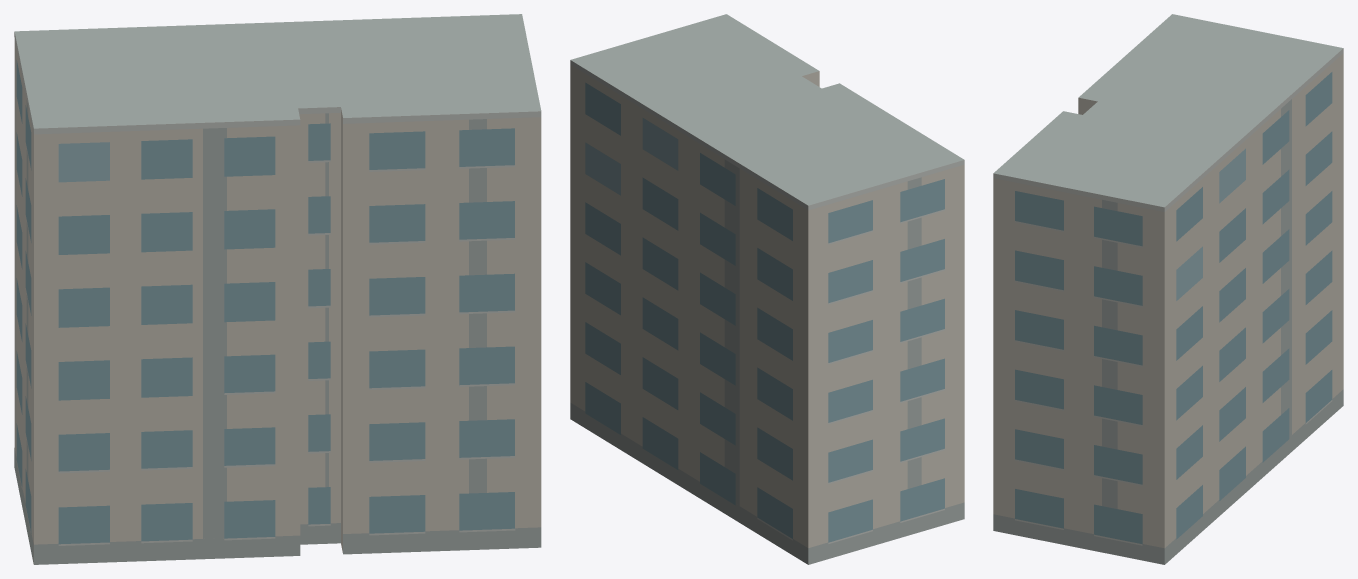
Rendered from survey-upis-32552442.glb.
The picture shows the model from 3 angles, left to right: view 1: azimuth 30°, elevation 25°; view 2: azimuth 150°, elevation 25°; view 3: azimuth 270°, elevation 25°; orthographic projection. The views are drawn at different scales.
Parts seen in each view (by area): view 1: survey-upis-32552442.tmp; view 2: survey-upis-32552442.tmp; view 3: survey-upis-32552442.tmp.
Boxes of the visible parts, x1=… form: survey-upis-32552442.tmp: x1=14, y1=14, x2=541, y2=564; survey-upis-32552442.tmp: x1=570, y1=14, x2=964, y2=564; survey-upis-32552442.tmp: x1=993, y1=14, x2=1343, y2=564.
Bounding box in the file's own units: 21.24 × 18.3 × 16.26.
